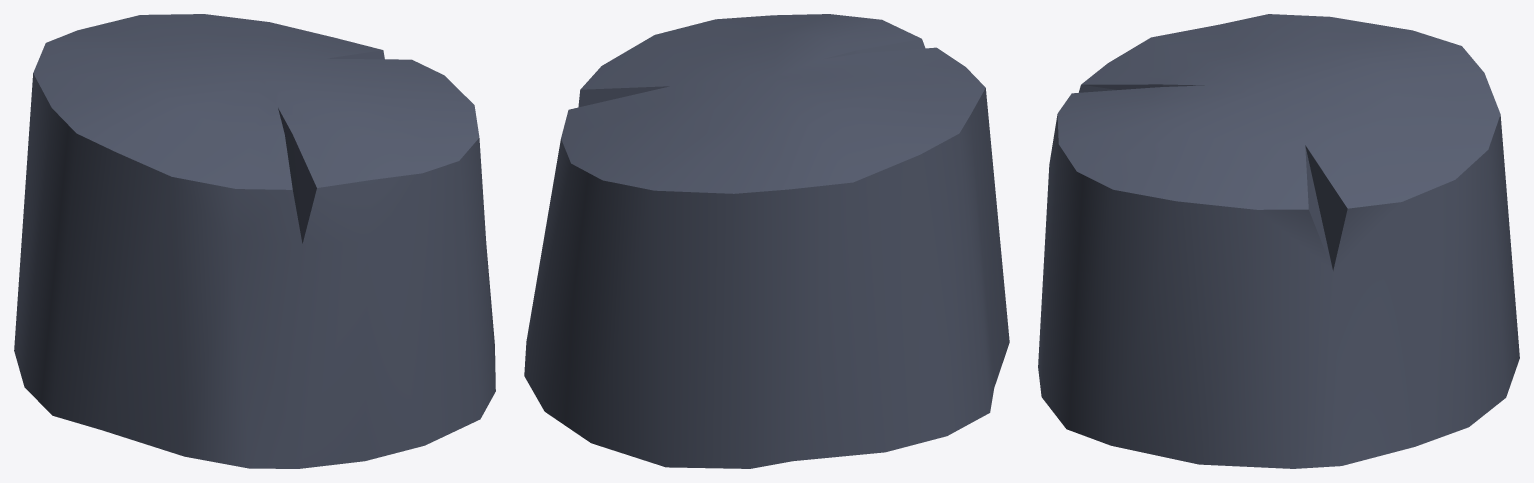
Rendered from WoodLarge.FBX.
3 views of the same model, side by side, from view 1: azimuth 30°, elevation 25°; view 2: azimuth 150°, elevation 25°; view 3: azimuth 270°, elevation 25° (orthographic). The views are drawn at different scales.
Visible parts, largest first — view 1: WoodLarge; view 2: WoodLarge; view 3: WoodLarge.
Part boxes in pixels (x1=…): WoodLarge: x1=14, y1=14, x2=495, y2=468; WoodLarge: x1=524, y1=14, x2=1009, y2=468; WoodLarge: x1=1038, y1=14, x2=1519, y2=468.
Bounding box in the file's own units: 72.56 × 48.13 × 73.33.
